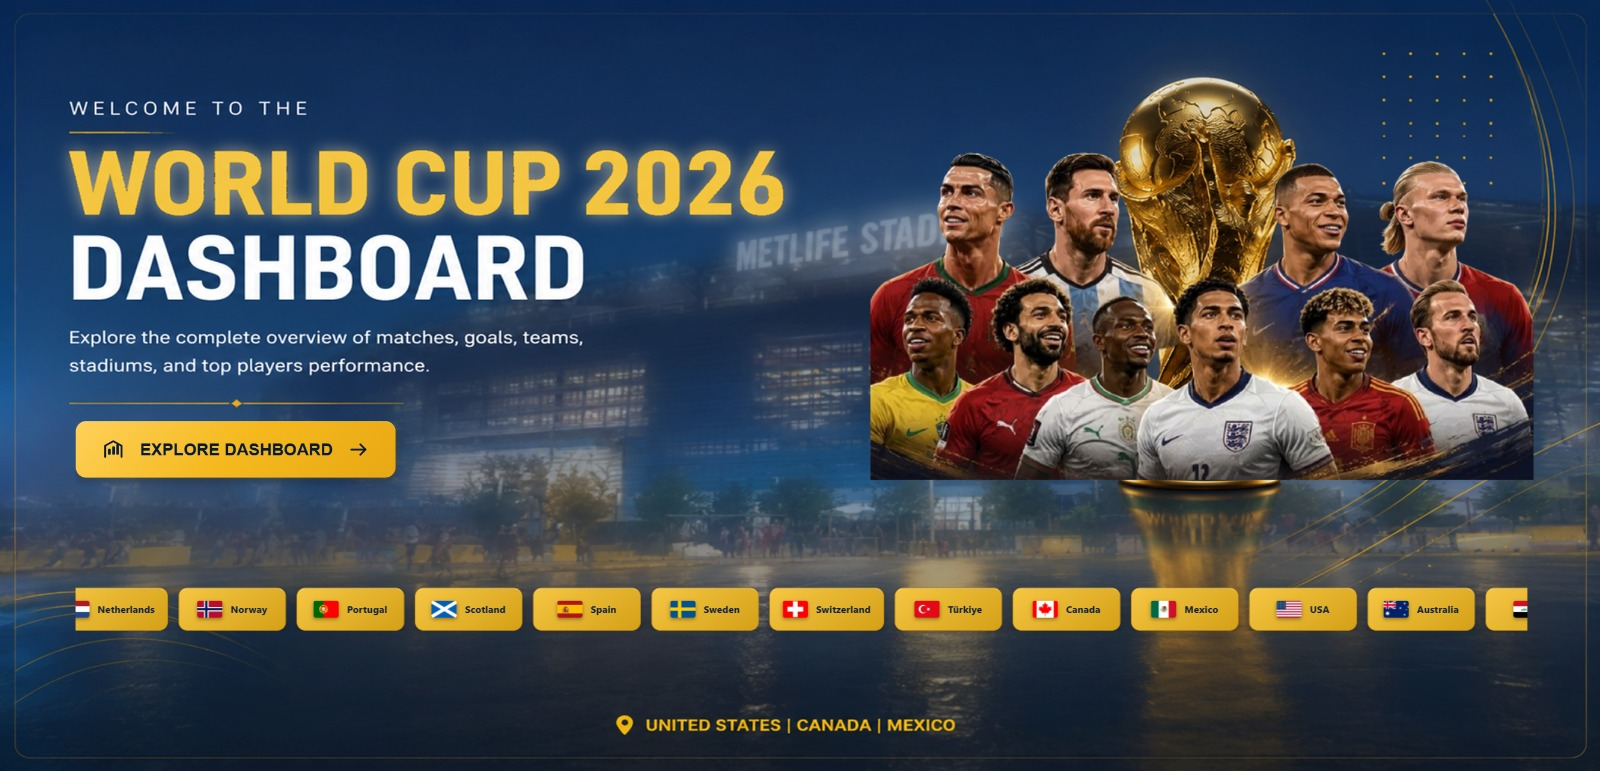

Layout of this report page (visuals, bound fields, positions):
{"tool":"powerbi","page":{"name":"Home Page","canvas":[2162,1045],"ordinal":0},"visuals":[{"type":"htmlContent443BE3AD55E043BF878BED274D3A6855","fields":{"content":["HTML DAX.Landing Shine Effect HTML 2"]},"box":[0,0,2162,1046],"z":2000},{"type":"htmlContent443BE3AD55E043BF878BED274D3A6855","fields":{"content":["HTML DAX.Explore Dashboard Button 2"]},"box":[90,556,492,124],"z":3000},{"type":"htmlContent443BE3AD55E043BF878BED274D3A6855","fields":{"content":["HTML DAX.Teams Marquee 2"]},"box":[90,780,1984,94],"z":3500},{"type":"actionButton","box":[190,594,265,27],"z":4000}]}

Visuals, with their boxes in screenshot pixels (x1, y1, x2, y2), scaled from the page's 2162x1045 canvas onto the 1600x771 screenshot:
htmlContent443BE3AD55E043BF878BED274D3A6855 - HTML DAX.Landing Shine Effect HTML 2: [left=0, top=0, right=1599, bottom=770]
htmlContent443BE3AD55E043BF878BED274D3A6855 - HTML DAX.Explore Dashboard Button 2: [left=67, top=410, right=431, bottom=502]
htmlContent443BE3AD55E043BF878BED274D3A6855 - HTML DAX.Teams Marquee 2: [left=67, top=575, right=1535, bottom=645]
actionButton: [left=141, top=438, right=337, bottom=458]
